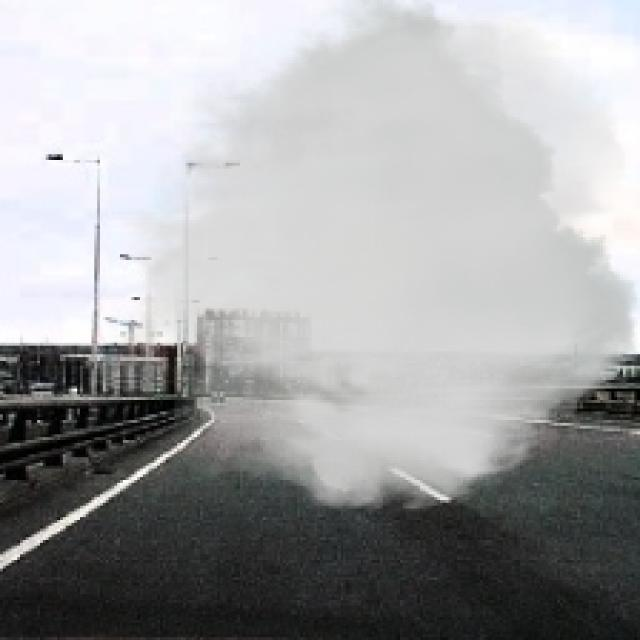Smoke: (108, 0, 638, 517)
